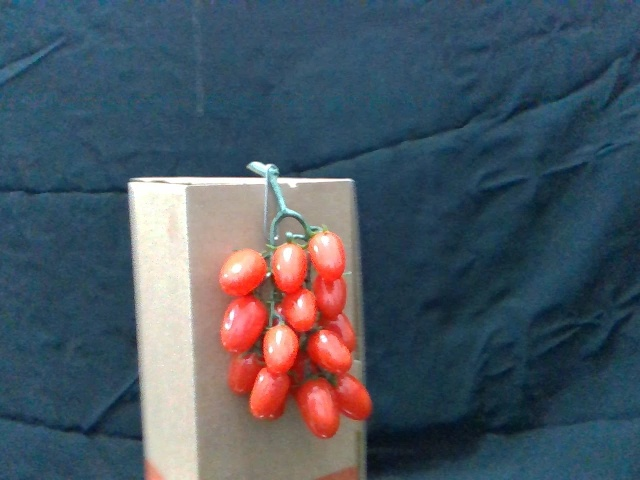tomato: (219, 294, 268, 356), (296, 377, 342, 443), (250, 366, 292, 421), (306, 328, 353, 376), (222, 250, 269, 295), (332, 375, 375, 423), (309, 227, 347, 279), (263, 322, 299, 376), (271, 241, 309, 292), (227, 350, 265, 398), (281, 287, 318, 335), (314, 274, 347, 320)
